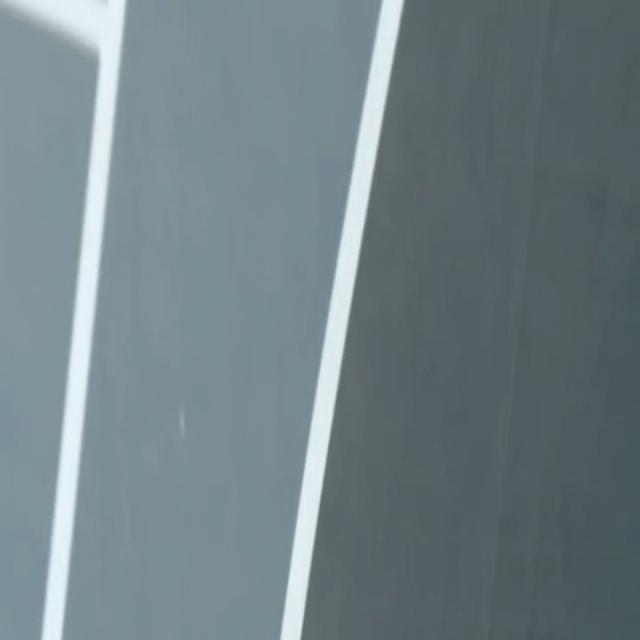left: (279, 0, 404, 639)
